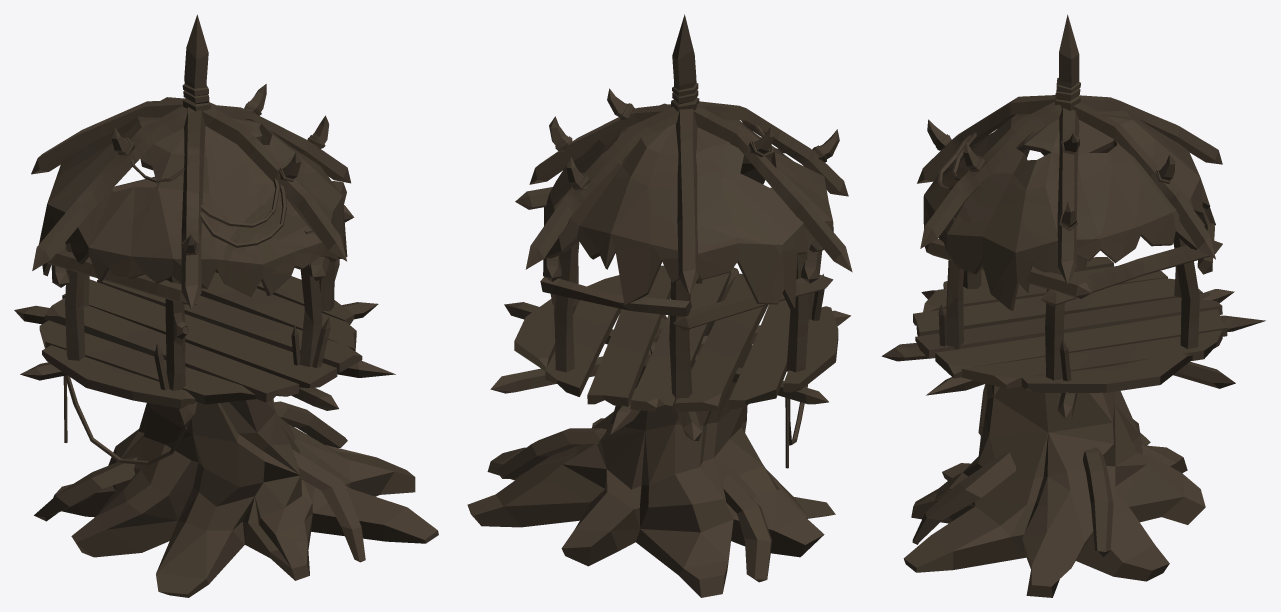
File: bog_treehouse.gltf
3 renders of one model, left to right at view 1: azimuth 30°, elevation 25°; view 2: azimuth 150°, elevation 25°; view 3: azimuth 270°, elevation 25°, orthographic. The views are drawn at different scales.
Parts seen in each view (by area): view 1: bog_treehouse; view 2: bog_treehouse; view 3: bog_treehouse.
Boxes of the visible parts, box(x1,y1,x2,y2) form: bog_treehouse: box(14, 14, 438, 597); bog_treehouse: box(467, 14, 852, 597); bog_treehouse: box(881, 14, 1265, 597).
Bounding box in the file's own units: 6.58 × 8.84 × 6.2.
1 material, 1 textured.
